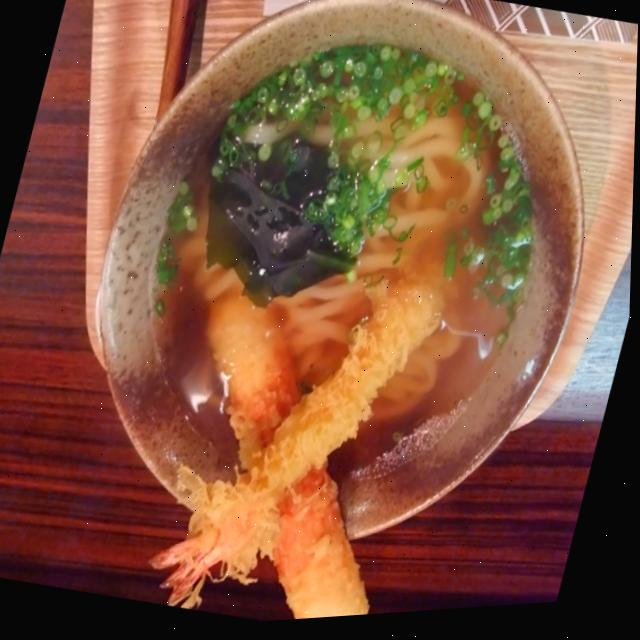面条主食: (62, 0, 597, 636)
